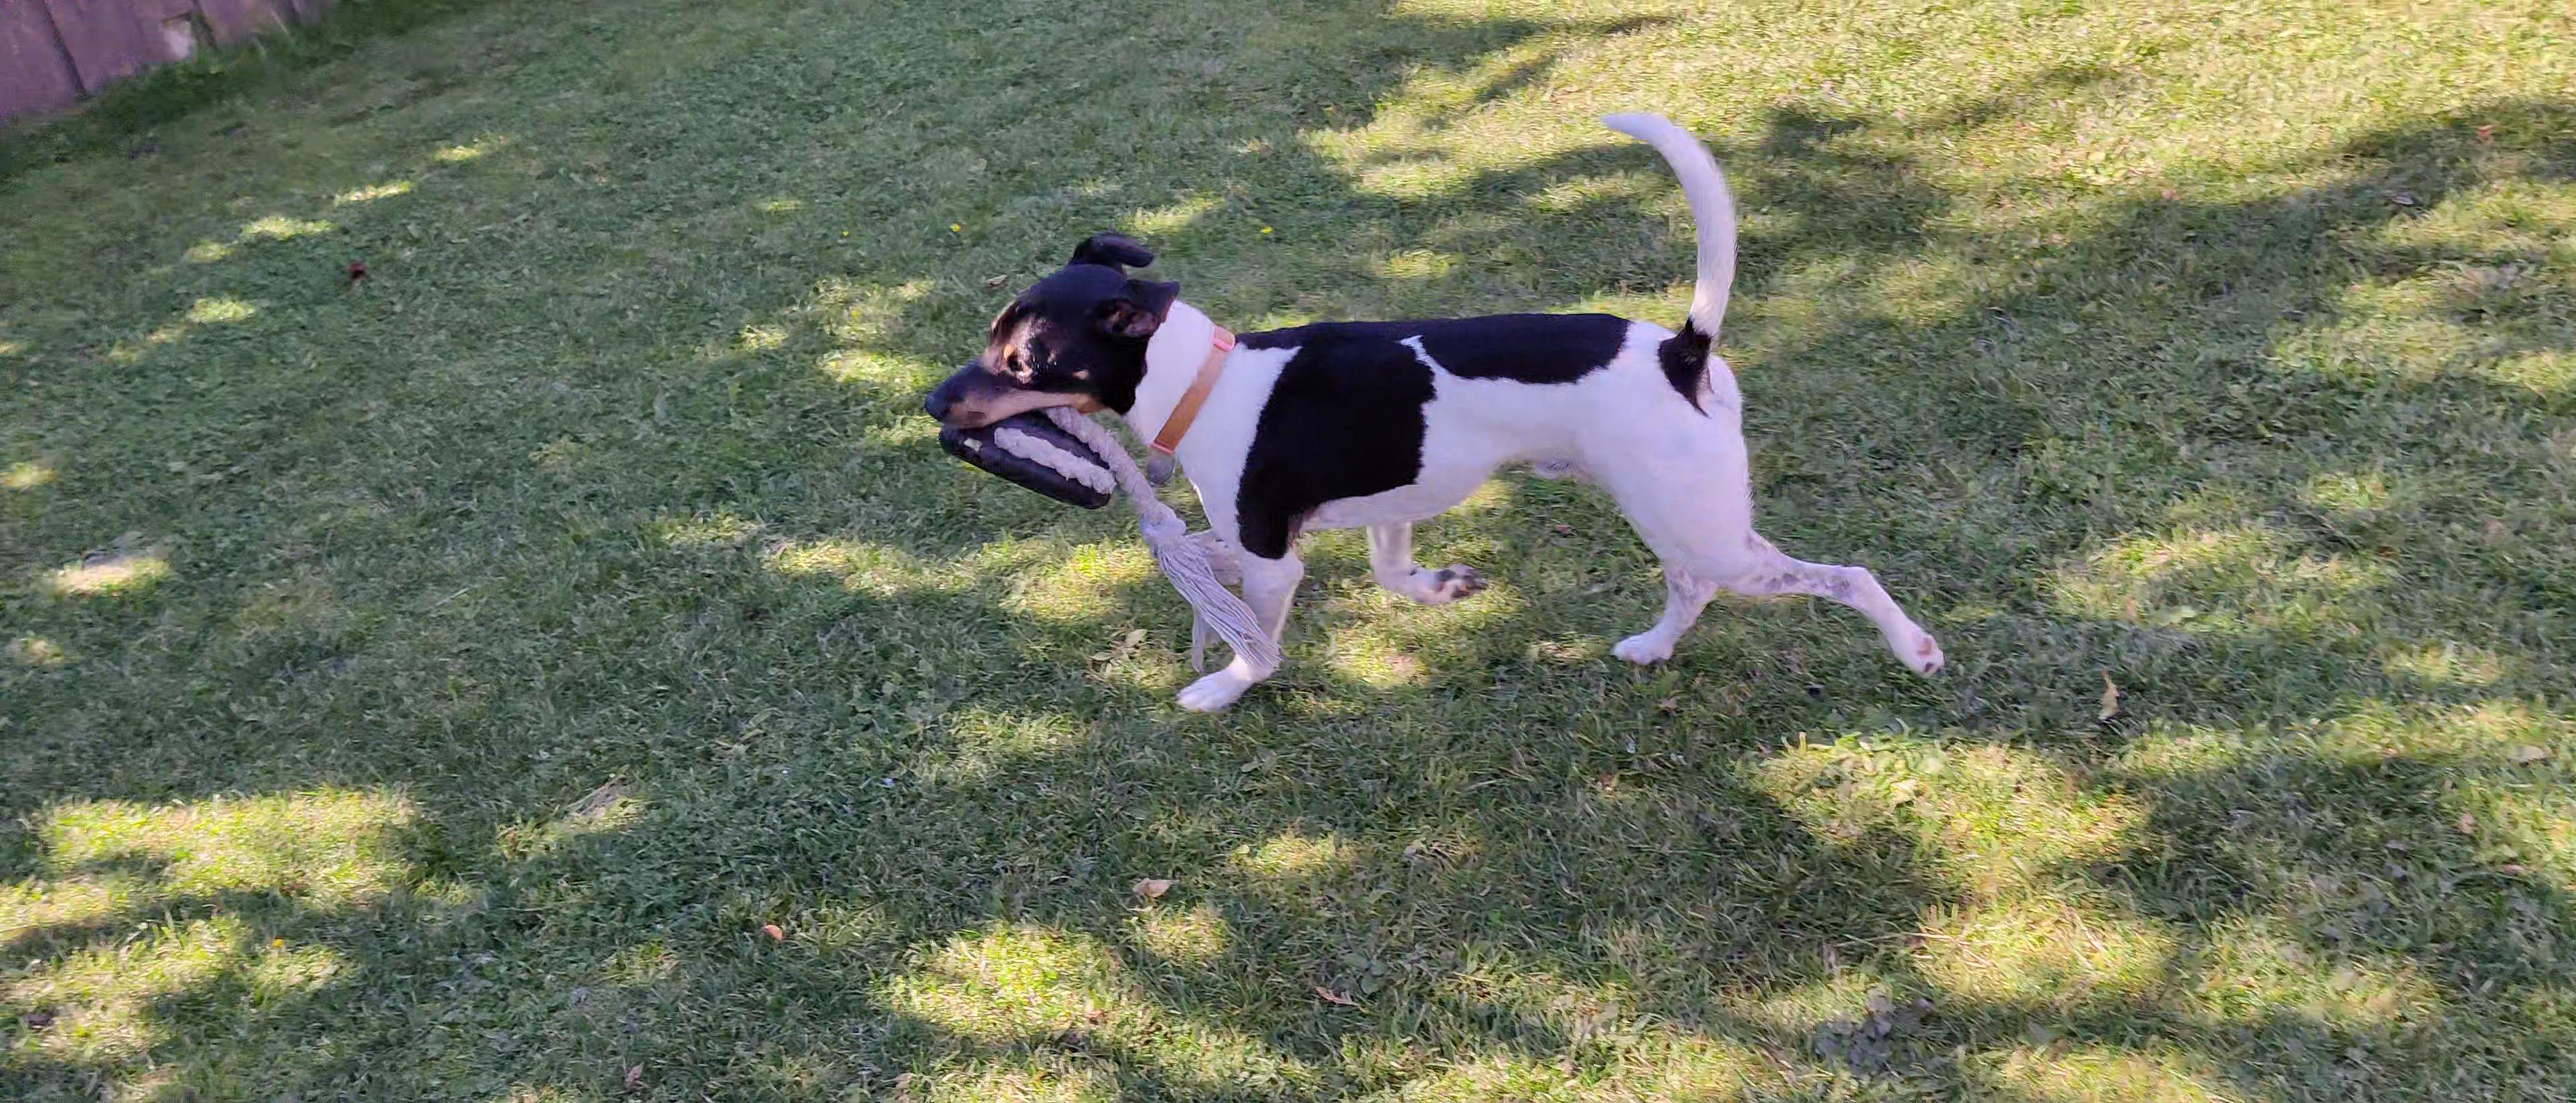Dog: (908, 110, 1952, 728)
